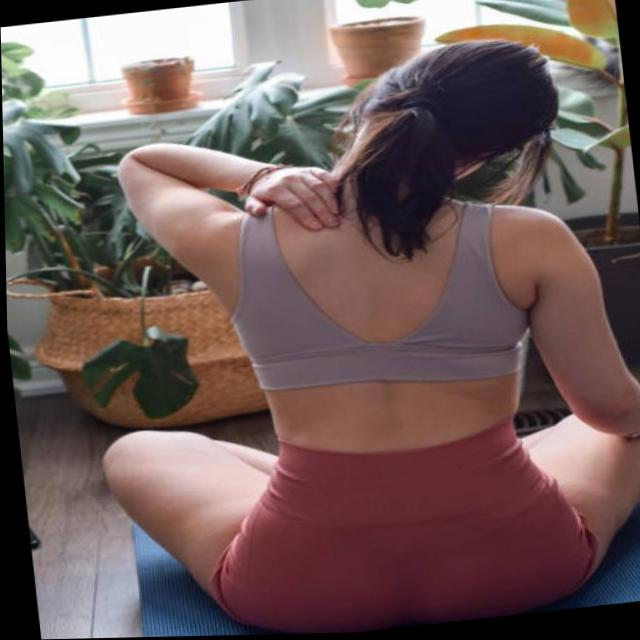no helmet: (351, 36, 561, 203)
